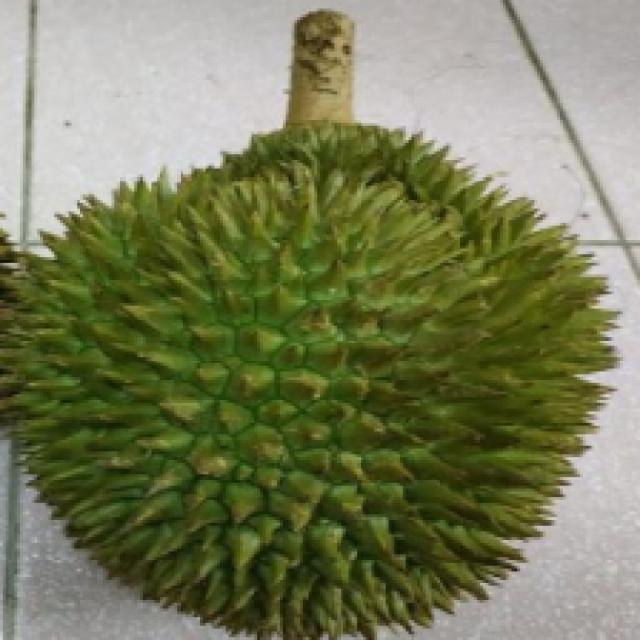d24: (81, 29, 615, 623)
